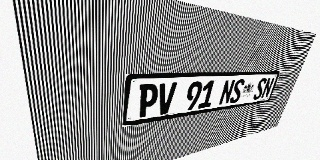1: (198, 80, 217, 109)
9: (184, 81, 204, 111)
N: (218, 79, 236, 105), (260, 77, 275, 99)
P: (137, 83, 159, 118)
S: (229, 79, 246, 104), (252, 78, 268, 100)
V: (156, 82, 177, 115)
